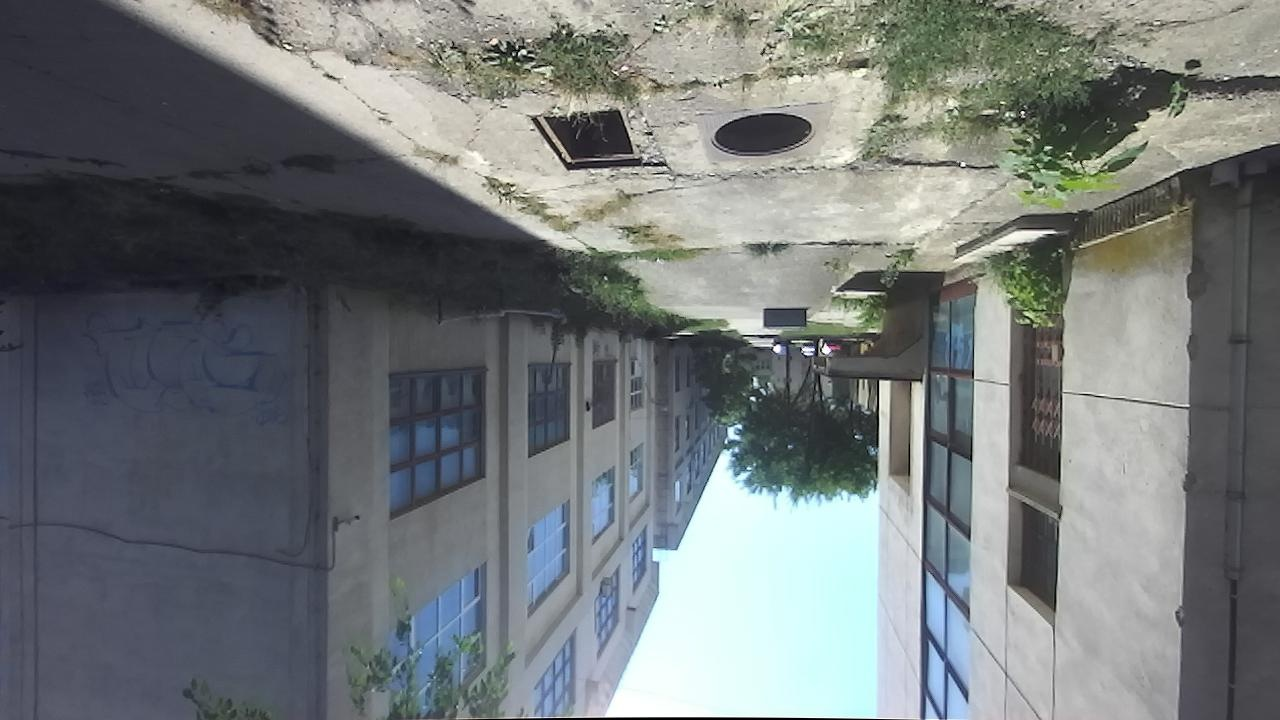drain: (525, 107, 646, 176), (706, 110, 821, 160)
